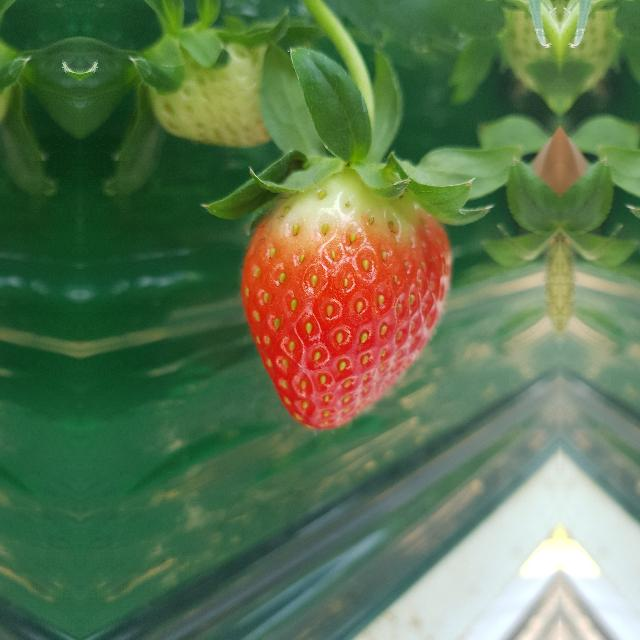Health_100: (241, 164, 454, 432)
